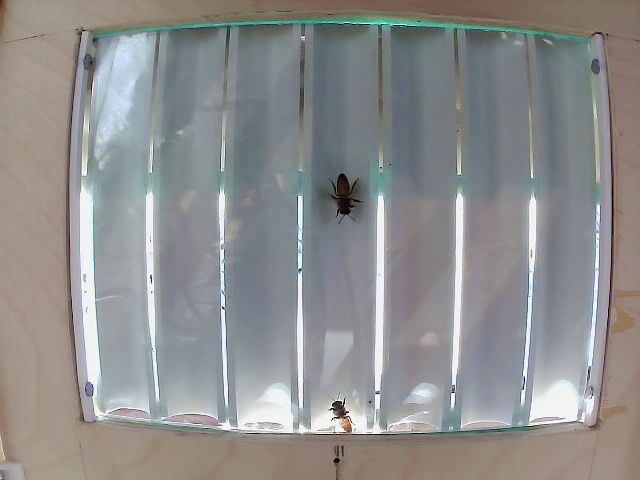bee: (328, 173, 362, 225)
